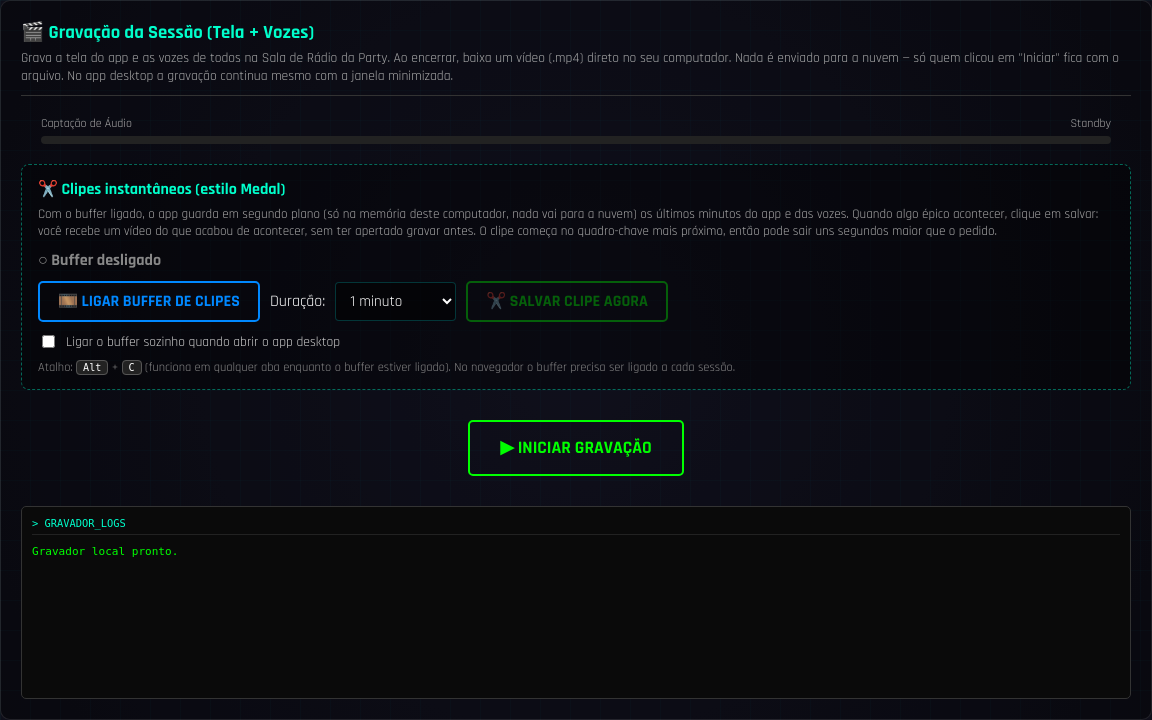
Test: GravadorPanel: aviso "Sem captura de tela" › aparece (role=alert, classe .gravador-aviso) ao gravar sem getDisplayMedia
The width and height of the screenshot is (1152, 720).
Click the button "▶ INICIAR GRAVAÇÃO" at coordinates (576, 448), box [468,420,684,476]
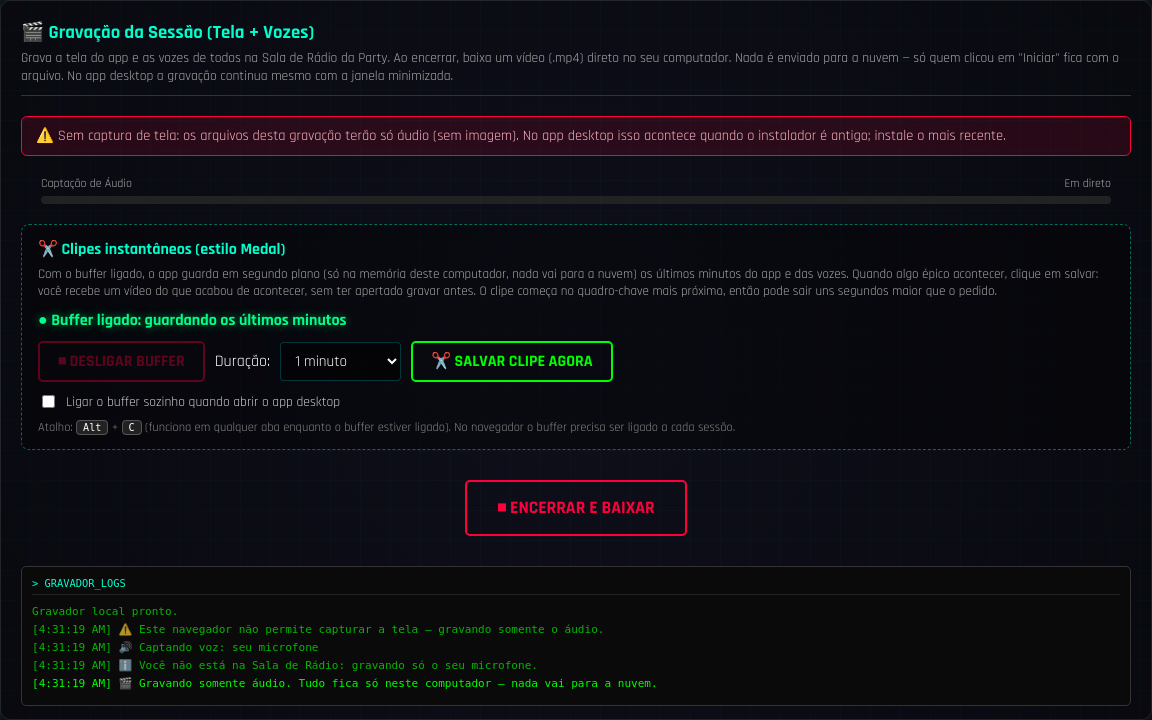
Check: the message shows "só áudio", box [36,127,1006,145]
